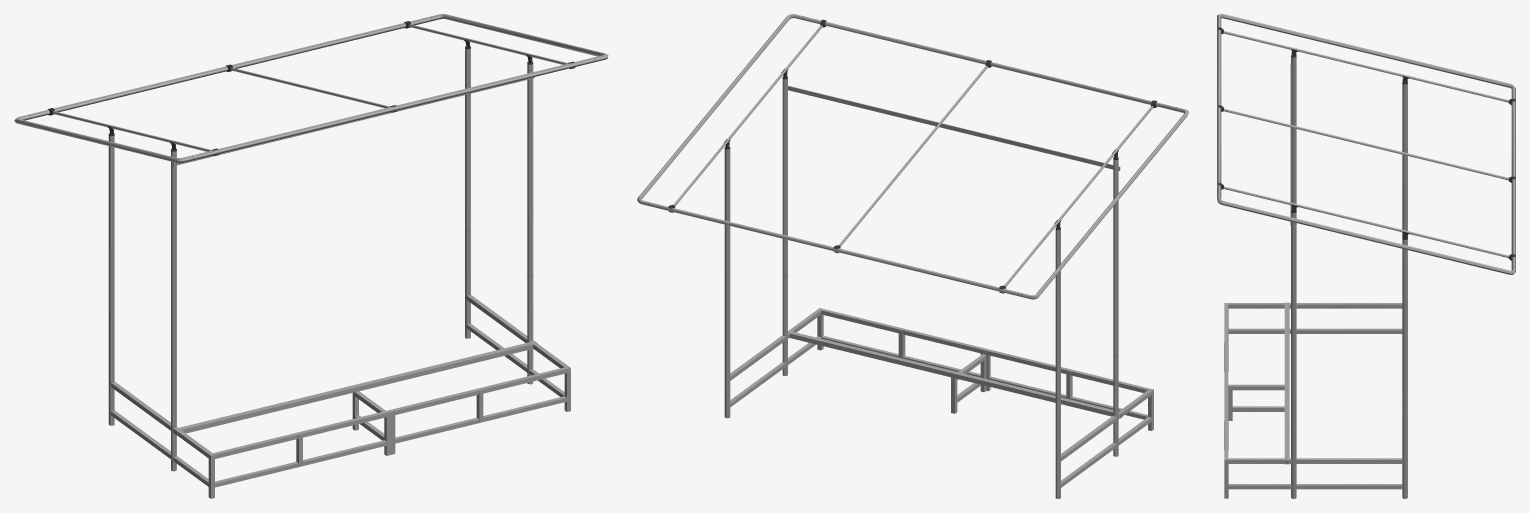
The model's file is jsf_4P_s03_Leg02.fbx.
The picture shows the model from 3 angles, left to right: view 1: azimuth 30°, elevation 25°; view 2: azimuth 150°, elevation 25°; view 3: azimuth 270°, elevation 25°; orthographic projection. The views are drawn at different scales.
Parts seen in each view (by area): view 1: jsf_4P_s03_Leg02; view 2: jsf_4P_s03_Leg02; view 3: jsf_4P_s03_Leg02.
Part boxes in pixels (x1=…): jsf_4P_s03_Leg02: x1=14, y1=14, x2=608, y2=498; jsf_4P_s03_Leg02: x1=637, y1=14, x2=1188, y2=498; jsf_4P_s03_Leg02: x1=1217, y1=14, x2=1515, y2=498.
Size of the model in its own units: 313 by 243 by 210.
